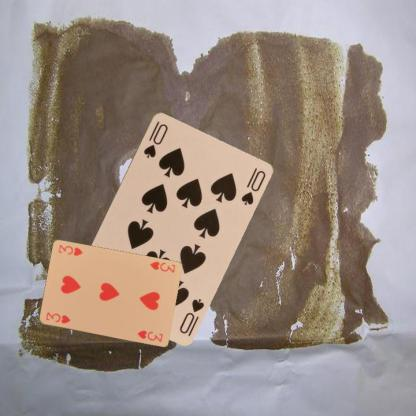10s: (140, 118, 170, 159), (176, 295, 206, 335)
3h: (148, 259, 176, 274), (43, 310, 71, 324)
